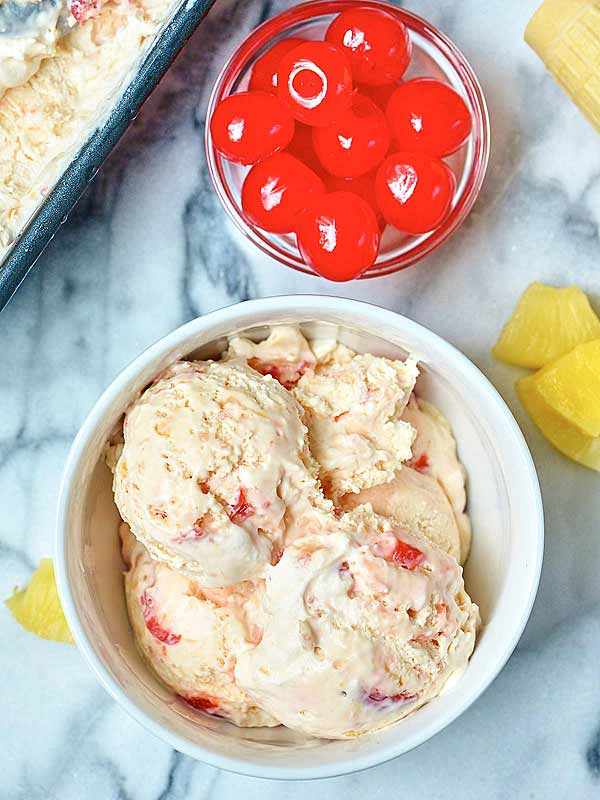ice-cream: (248, 529, 476, 731), (113, 363, 308, 588), (303, 352, 492, 559), (121, 549, 311, 740)
